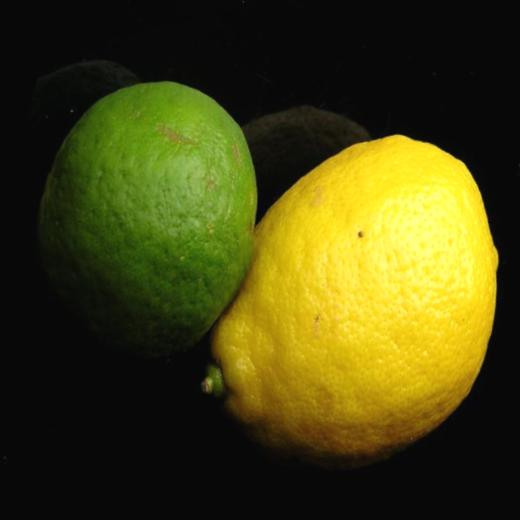Grape: (189, 104, 520, 483), (12, 48, 292, 364)
